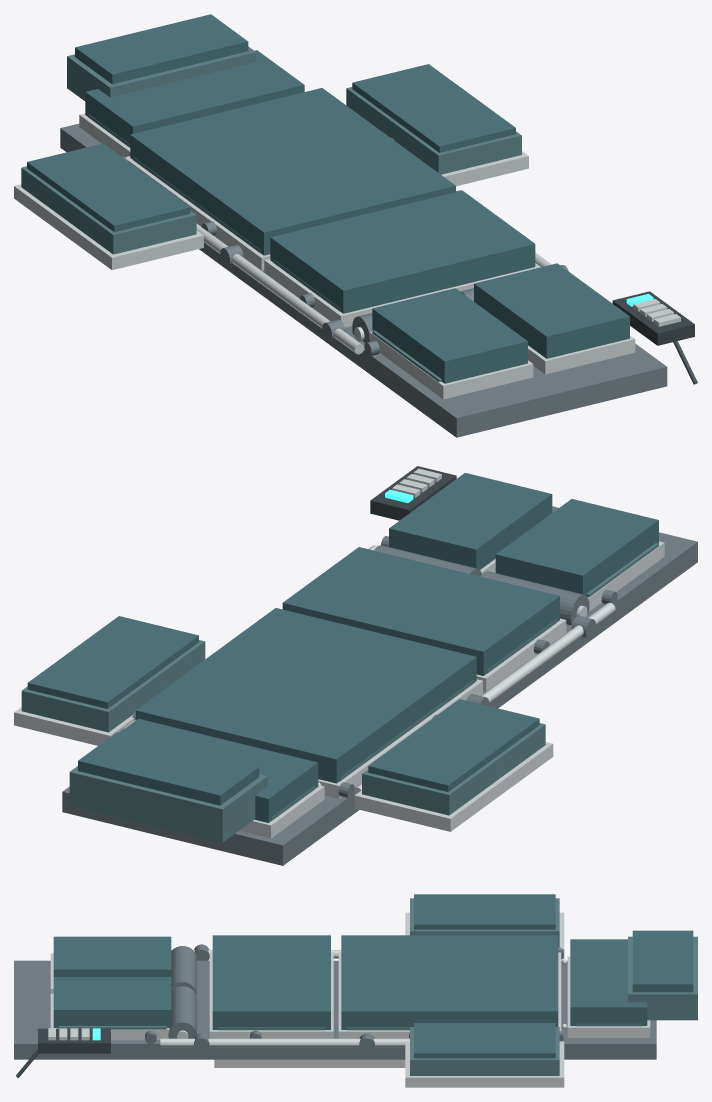
File: top.glb
3 views of the same model, one above another, from view 1: azimuth 30°, elevation 25°; view 2: azimuth 150°, elevation 25°; view 3: azimuth 270°, elevation 25° (orthographic). The views are drawn at different scales.
Parts seen in each view (by area): view 1: back_pad, seat_pad, radiolucent_deck, leg_L_pad, leg_R_pad, head_pad, L_armboard_top, R_armboard_top, headrest_top, L_armboard_pad, R_armboard_pad, L_armboard_plate (+9 smaller); view 2: back_pad, seat_pad, radiolucent_deck, leg_L_pad, leg_R_pad, L_armboard_top, R_armboard_top, headrest_top, headrest_cushion, head_pad, L_armboard_pad, R_armboard_pad (+11 smaller); view 3: back_pad, radiolucent_deck, seat_pad, leg_R_pad, head_pad, L_armboard_top, R_armboard_top, leg_L_pad, headrest_top, R_armboard_pad, R_armboard_plate, headrest_cushion (+13 smaller).
Part boxes in pixels (<box>): back_pad: <box>130,88,455,255</box>; seat_pad: <box>270,190,535,313</box>; radiolucent_deck: <box>60,123,667,437</box>; leg_L_pad: <box>372,288,527,383</box>; leg_R_pad: <box>474,263,629,358</box>; head_pad: <box>85,50,304,147</box>; L_armboard_top: <box>27,143,190,232</box>; R_armboard_top: <box>352,64,515,152</box>; headrest_top: <box>75,14,248,84</box>; L_armboard_pad: <box>21,166,196,254</box>; R_armboard_pad: <box>346,87,521,174</box>; L_armboard_plate: <box>14,184,203,270</box>; back_pad: <box>135,608,476,783</box>; seat_pad: <box>282,547,559,675</box>; radiolucent_deck: <box>62,506,697,865</box>; leg_L_pad: <box>495,499,658,595</box>; leg_R_pad: <box>389,473,552,569</box>; L_armboard_top: <box>368,699,539,791</box>; R_armboard_top: <box>27,616,198,708</box>; headrest_top: <box>78,732,259,805</box>; headrest_cushion: <box>69,766,267,842</box>; head_pad: <box>119,718,318,822</box>; L_armboard_pad: <box>362,723,545,815</box>; R_armboard_pad: <box>21,640,205,732</box>; back_pad: <box>341,935,558,1029</box>; radiolucent_deck: <box>14,960,656,1059</box>; seat_pad: <box>212,935,330,1029</box>; leg_R_pad: <box>53,977,171,1027</box>; head_pad: <box>570,939,647,1025</box>; L_armboard_top: <box>414,894,555,929</box>; R_armboard_top: <box>414,1023,555,1058</box>; leg_L_pad: <box>53,936,171,976</box>; headrest_top: <box>632,930,693,992</box>; R_armboard_pad: <box>410,1027,559,1075</box>; R_armboard_plate: <box>405,1041,564,1087</box>; headrest_cushion: <box>628,936,697,1020</box>.
Bounding box in the file's own units: 1.23 × 0.28 × 2.15.
